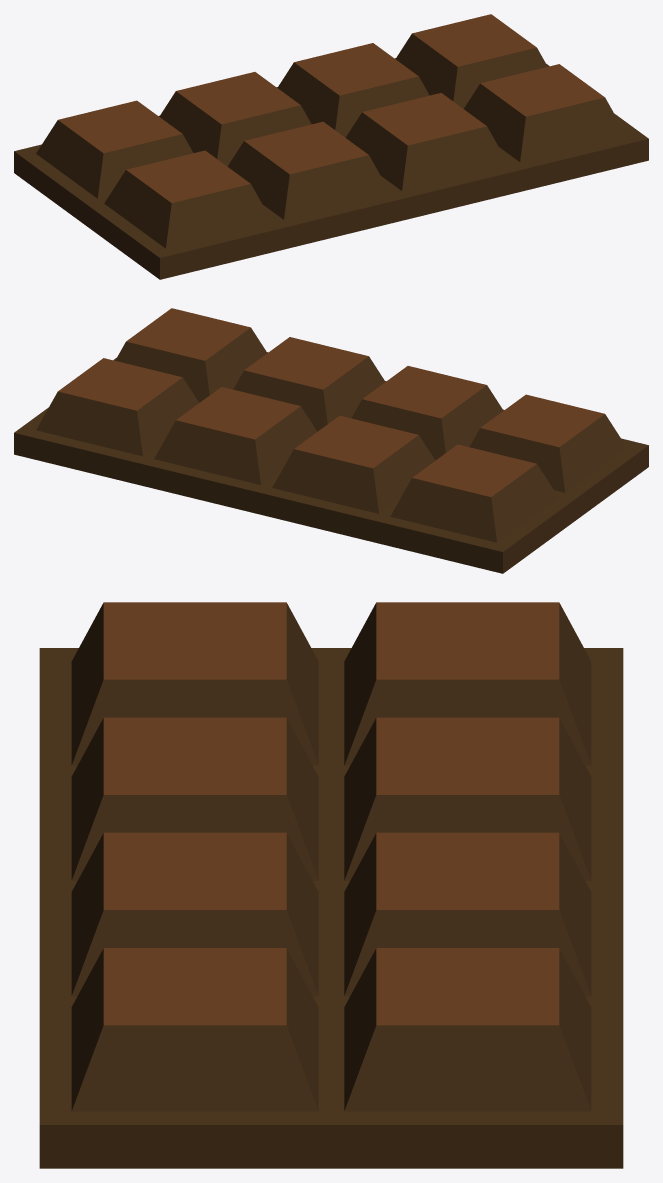
Rendered from item_produce_chocolate_c.obj.
The picture shows the model from 3 angles, top to bottom: view 1: azimuth 30°, elevation 25°; view 2: azimuth 150°, elevation 25°; view 3: azimuth 270°, elevation 25°; orthographic projection. The views are drawn at different scales.
Bounding box in the file's own units: 0.9012 × 0.1024 × 0.466.
